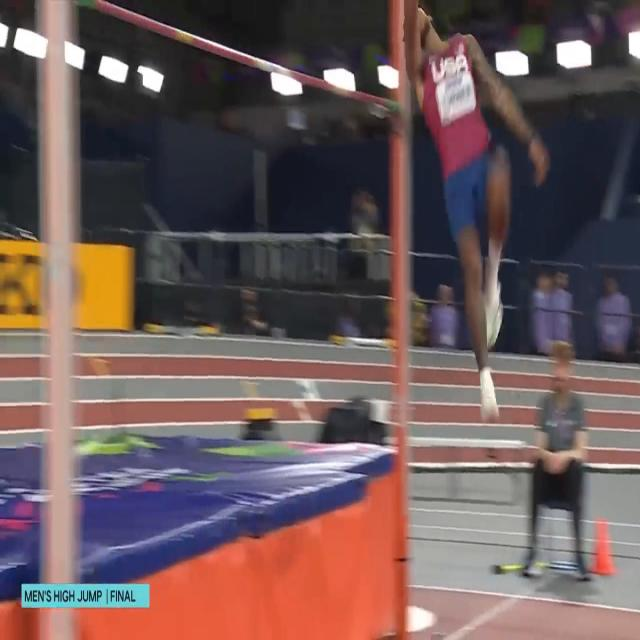jump: (400, 0, 550, 421)
